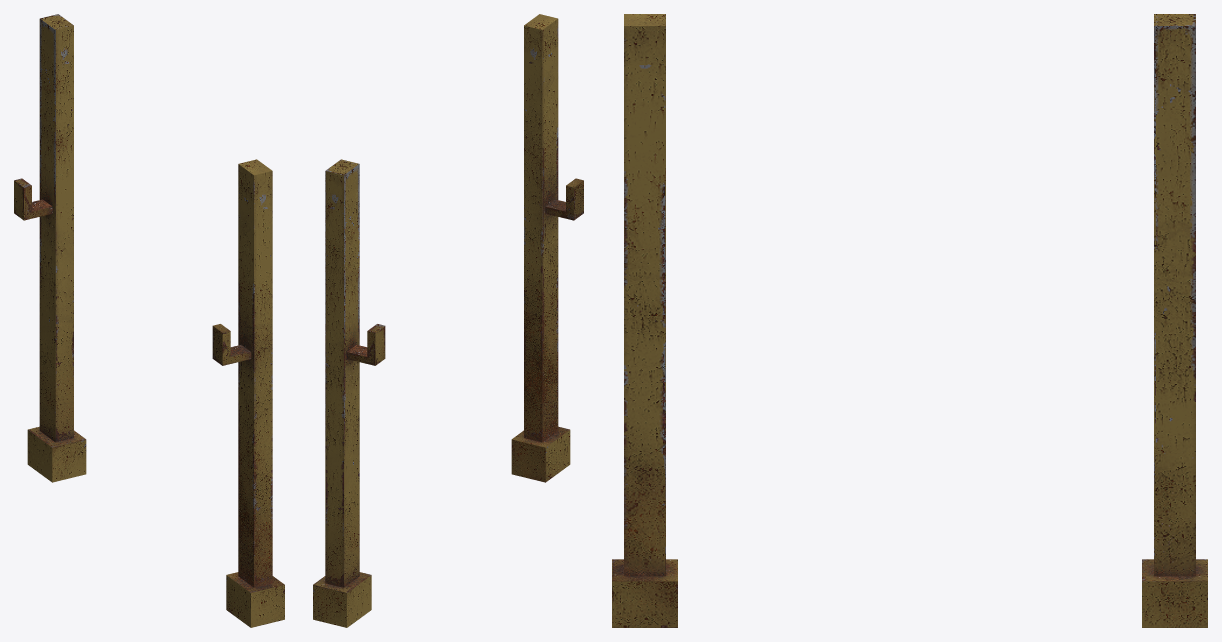
The model's file is Stopper2.fbx.
3 views of the same model, side by side, from view 1: azimuth 30°, elevation 25°; view 2: azimuth 150°, elevation 25°; view 3: azimuth 270°, elevation 25° (orthographic). The views are drawn at different scales.
Parts seen in each view (by area): view 1: Stopper2; view 2: Stopper2; view 3: Stopper2.
Part boxes in pixels (bbox=[...]): Stopper2: bbox=[14, 14, 284, 627]; Stopper2: bbox=[313, 14, 583, 627]; Stopper2: bbox=[612, 14, 1207, 627].
Size of the model in its own units: 0.253 by 1.97 by 1.78.
